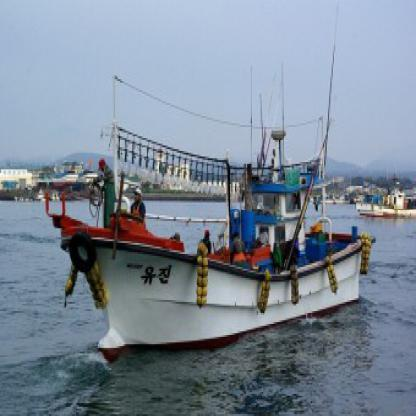Ship: (30, 78, 390, 364)
